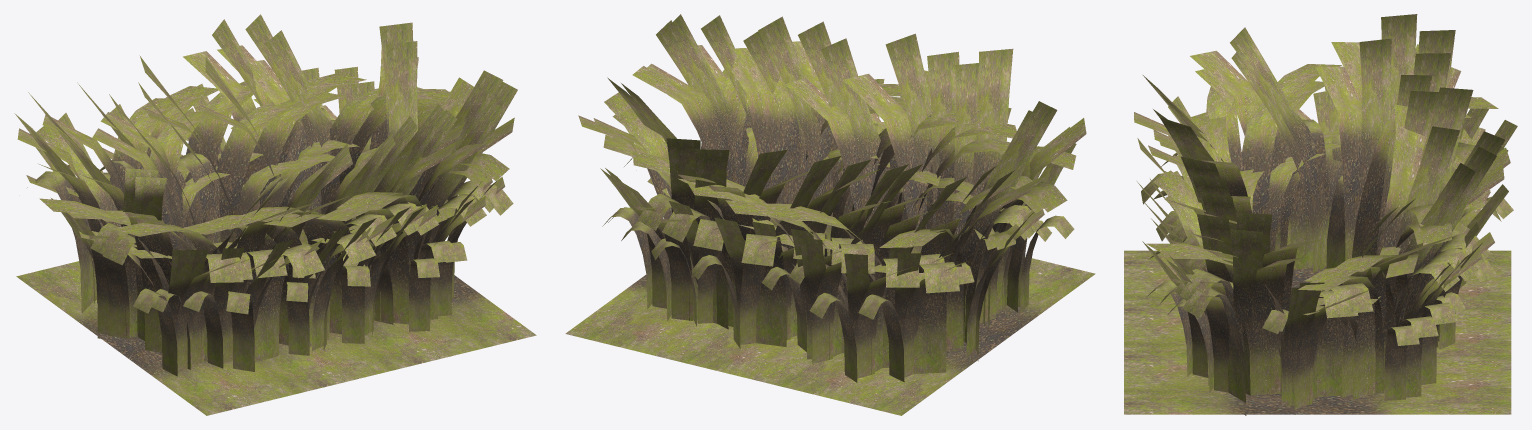
The model's file is grass.obj.
3 renders of one model, left to right at view 1: azimuth 30°, elevation 25°; view 2: azimuth 150°, elevation 25°; view 3: azimuth 270°, elevation 25°, orthographic.
Visible parts, largest first — view 1: Foliage01, Foliage02, Plane; view 2: Foliage01, Foliage02, Plane; view 3: Foliage02, Foliage01, Plane.
Boxes of the visible parts, box(x1,y1,x2,y2) form: Foliage01: box(14, 14, 509, 376); Foliage02: box(54, 30, 517, 369); Plane: box(16, 261, 536, 415); Foliage01: box(578, 14, 1086, 382); Foliage02: box(593, 15, 1069, 351); Plane: box(565, 256, 1095, 415); Foliage02: box(1142, 38, 1482, 415); Foliage01: box(1134, 14, 1517, 414); Plane: box(1124, 250, 1511, 414).
Bounding box in the file's own units: 16.87 × 8.13 × 12.86.
